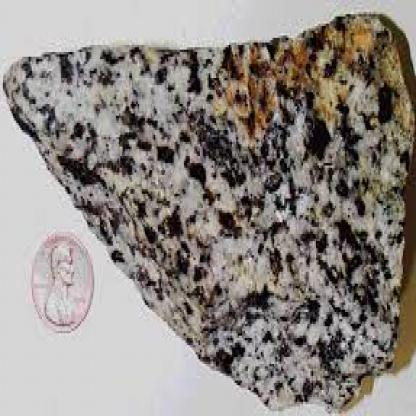Igneous_Diorite: (1, 7, 414, 414)
